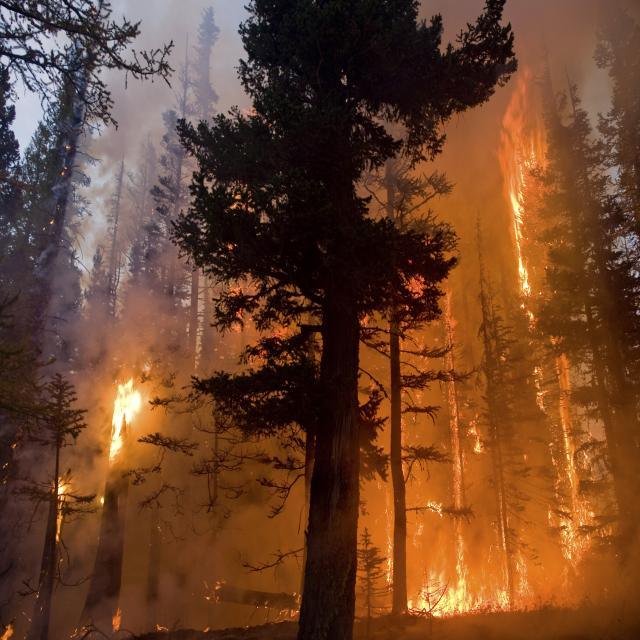Fire: (508, 96, 600, 538), (414, 502, 530, 610), (425, 300, 464, 496), (92, 362, 142, 507), (48, 464, 68, 520)
Smoke: (81, 8, 266, 354), (377, 39, 499, 292)
